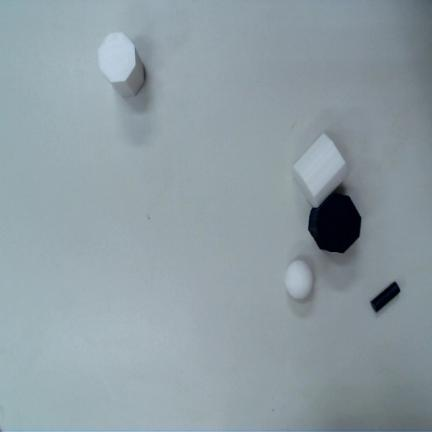Cilindro: (370, 282, 401, 312)
Esfera: (285, 259, 313, 300)
Prisma_hexagonal: (294, 134, 347, 206), (308, 194, 361, 254), (98, 32, 145, 97)
